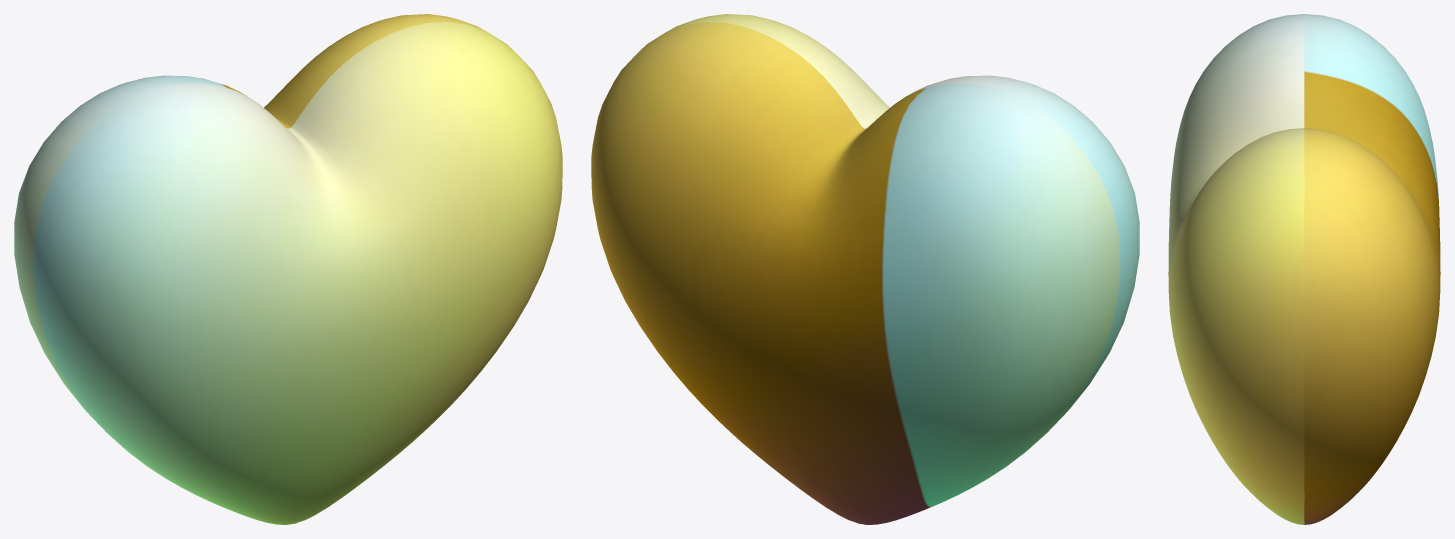
Rendered from heart.dae.
3 views of the same model, side by side, from view 1: azimuth 30°, elevation 25°; view 2: azimuth 150°, elevation 25°; view 3: azimuth 270°, elevation 25° (orthographic). The views are drawn at different scales.
Parts seen in each view (by area): view 1: BASE_HEART; view 2: BASE_HEART; view 3: BASE_HEART.
Boxes of the visible parts, bbox=[...] form: BASE_HEART: bbox=[14, 14, 562, 524]; BASE_HEART: bbox=[591, 14, 1139, 524]; BASE_HEART: bbox=[1168, 14, 1440, 524].
Size of the model in its own units: 0.8581 by 0.4225 by 0.7483.
1 material, 1 textured.
